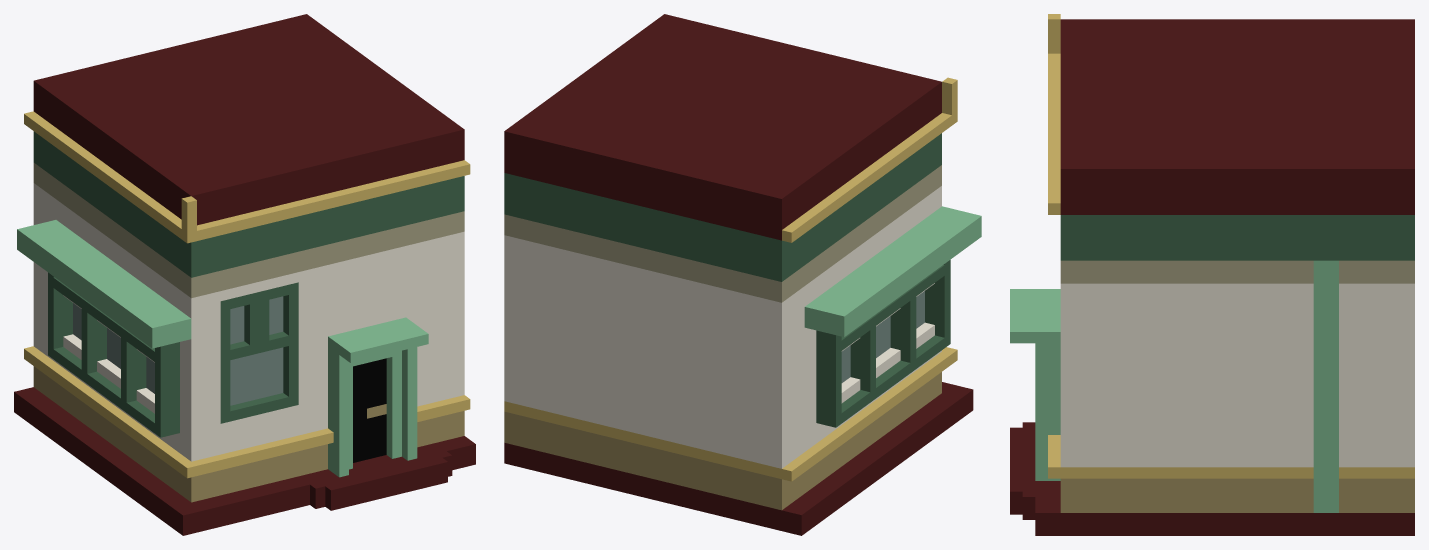
File: tile_1_right_nr_corner.obj
3 views of the same model, side by side, from view 1: azimuth 30°, elevation 25°; view 2: azimuth 150°, elevation 25°; view 3: azimuth 270°, elevation 25° (orthographic). The views are drawn at different scales.
Bounding box in the file's own units: 3.2 × 3.2 × 3.2.
